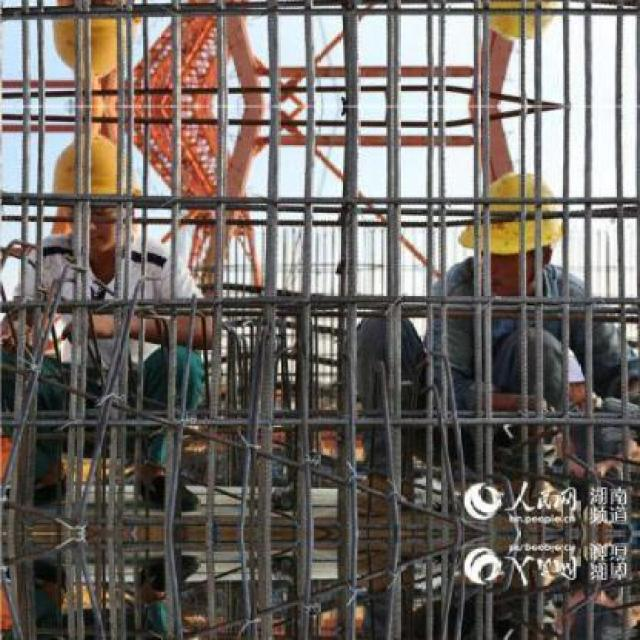helmet: (452, 165, 572, 264), (42, 126, 146, 212)
